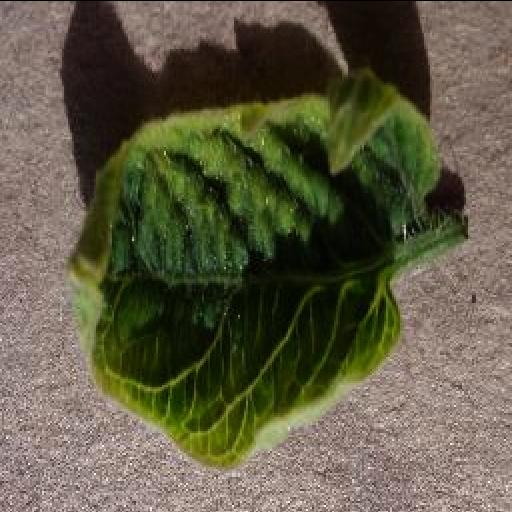disease_tomato: (62, 68, 444, 472)
